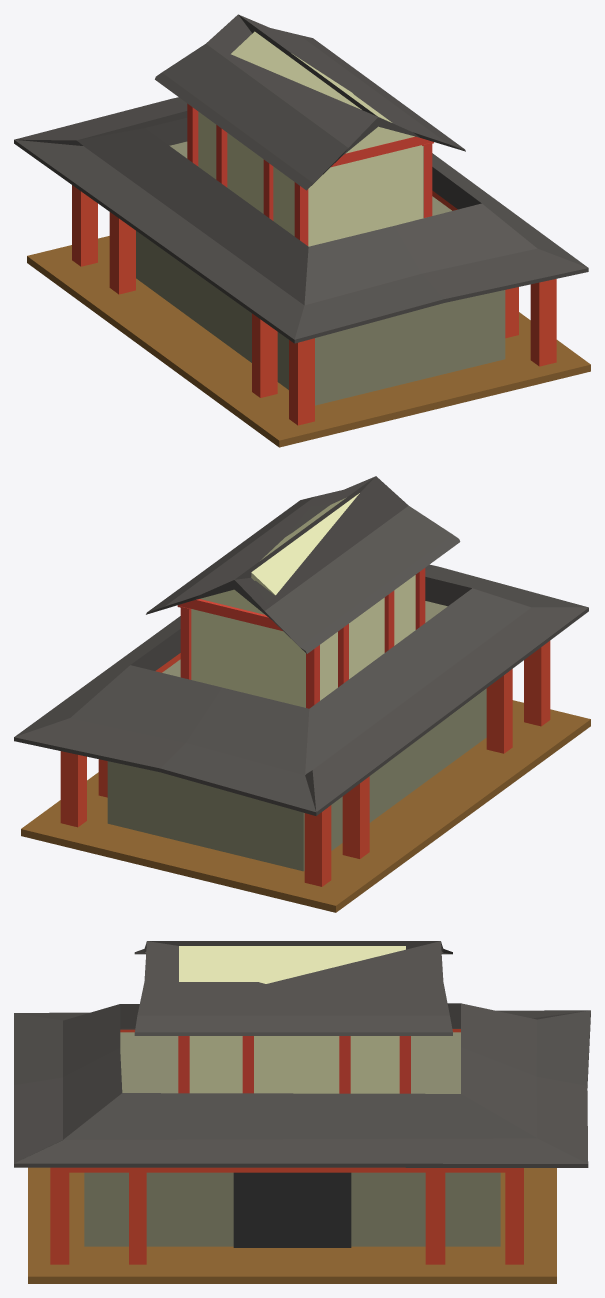
Rendered from WallTopHouse.fbx.
3 views of the same model, one above another, from view 1: azimuth 30°, elevation 25°; view 2: azimuth 150°, elevation 25°; view 3: azimuth 270°, elevation 25° (orthographic). The views are drawn at different scales.
Parts seen in each view (by area): view 1: 立方体.001, Cube.002, 立方体.002, Cube.003, Cube, Cube.001, 立方体; view 2: 立方体.001, Cube.002, 立方体.002, Cube.003, Cube, Cube.001, 立方体; view 3: 立方体.001, Cube.003, Cube.002, 立方体.002, Cube, Cube.001, 立方体.003, 立方体.
Boxes of the visible parts, x1,y1,x2,y2 form: 立方体.001: [14, 97, 588, 343]; Cube.002: [27, 236, 590, 447]; 立方体.002: [155, 14, 465, 190]; Cube.003: [136, 141, 505, 405]; Cube: [198, 31, 423, 246]; Cube.001: [72, 185, 556, 425]; 立方体: [187, 103, 433, 245]; 立方体.001: [14, 564, 588, 815]; Cube.002: [21, 700, 590, 912]; 立方体.002: [146, 476, 460, 653]; Cube.003: [107, 601, 486, 871]; Cube: [191, 493, 415, 707]; Cube.001: [60, 641, 550, 886]; 立方体: [177, 568, 425, 708]; 立方体.001: [14, 1003, 590, 1167]; Cube.003: [84, 1032, 500, 1246]; Cube.002: [28, 1167, 556, 1283]; 立方体.002: [134, 941, 452, 1035]; Cube: [179, 946, 405, 1093]; Cube.001: [50, 1029, 523, 1264]; 立方体.003: [233, 1172, 351, 1247]; 立方体: [178, 1036, 410, 1093].
Bounding box in the file's own units: 1162 × 894 × 1776.
